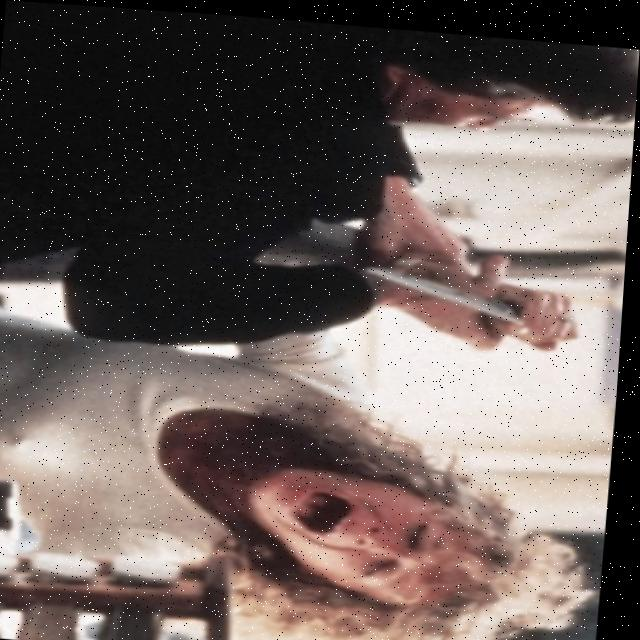knife: (359, 242, 526, 325)
